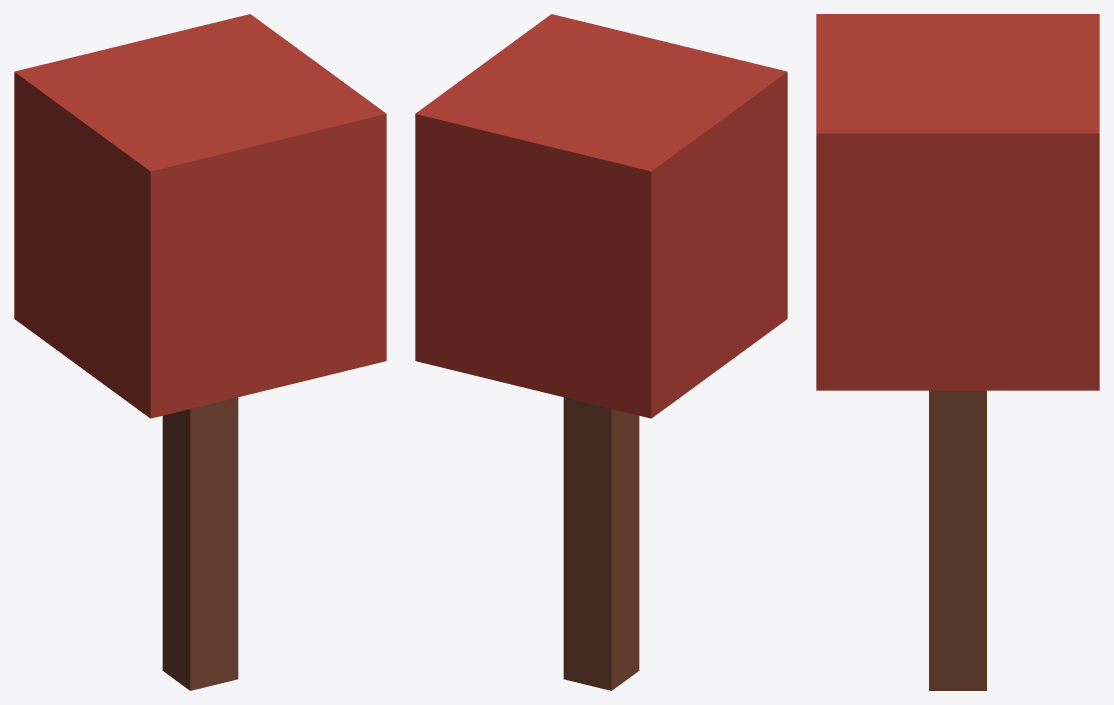
The model's file is Tree_47_summer_red_vc.fbx.
3 renders of one model, left to right at view 1: azimuth 30°, elevation 25°; view 2: azimuth 150°, elevation 25°; view 3: azimuth 270°, elevation 25°, orthographic. The views are drawn at different scales.
Visible parts, largest first — view 1: Tree_47_summer_red_vc; view 2: Tree_47_summer_red_vc; view 3: Tree_47_summer_red_vc.
Part boxes in pixels (box(x1,y1,x2,y2)): Tree_47_summer_red_vc: box(14, 14, 386, 690); Tree_47_summer_red_vc: box(415, 14, 787, 690); Tree_47_summer_red_vc: box(816, 14, 1099, 690).
Bounding box in the file's own units: 72.7 × 171 × 72.7.
